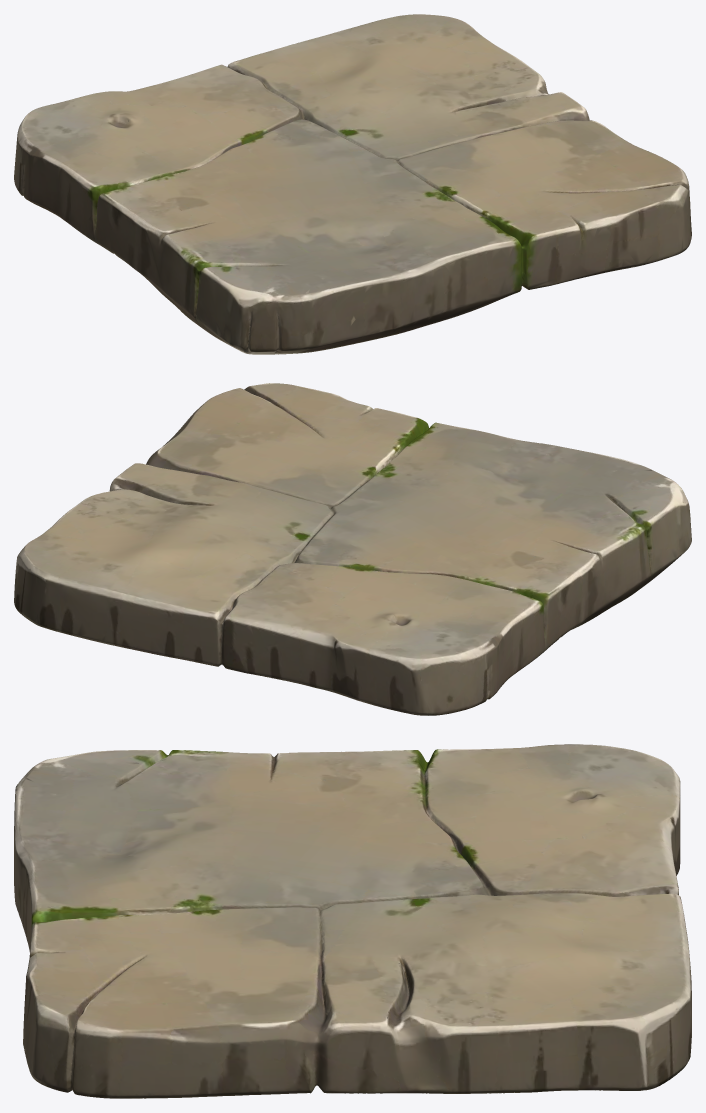
The model's file is path-stone.glb.
3 views of the same model, one above another, from view 1: azimuth 30°, elevation 25°; view 2: azimuth 150°, elevation 25°; view 3: azimuth 270°, elevation 25° (orthographic). The views are drawn at different scales.
Bounding box in the file's own units: 1.9 × 0.2737 × 1.87.
1 material, 1 textured.
